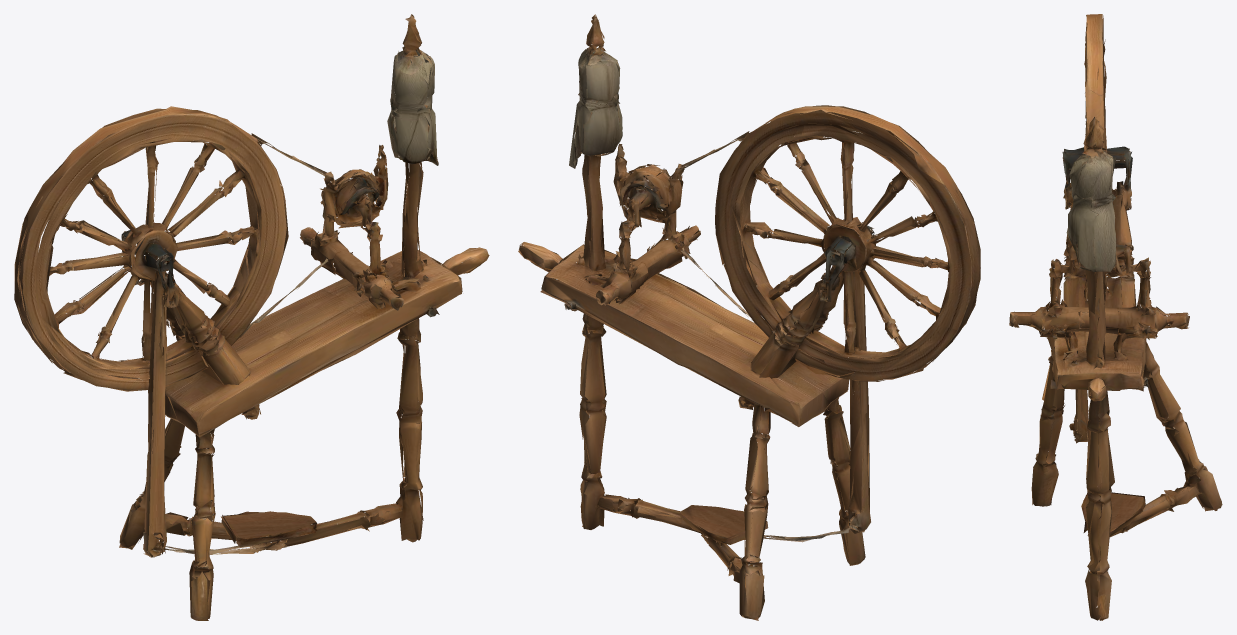
The model's file is spinning-wheel-interior-lod.glb.
The picture shows the model from 3 angles, left to right: view 1: azimuth 30°, elevation 25°; view 2: azimuth 150°, elevation 25°; view 3: azimuth 270°, elevation 25°; orthographic projection. The views are drawn at different scales.
Visible parts, largest first — view 1: Mesh_0; view 2: Mesh_0; view 3: Mesh_0.
Boxes of the visible parts, x1=… form: Mesh_0: x1=14, y1=14, x2=489, y2=620; Mesh_0: x1=518, y1=14, x2=980, y2=620; Mesh_0: x1=1009, y1=14, x2=1222, y2=620.
Size of the model in its own units: 1.77 by 1.89 by 0.7301.
1 material, 1 textured.
